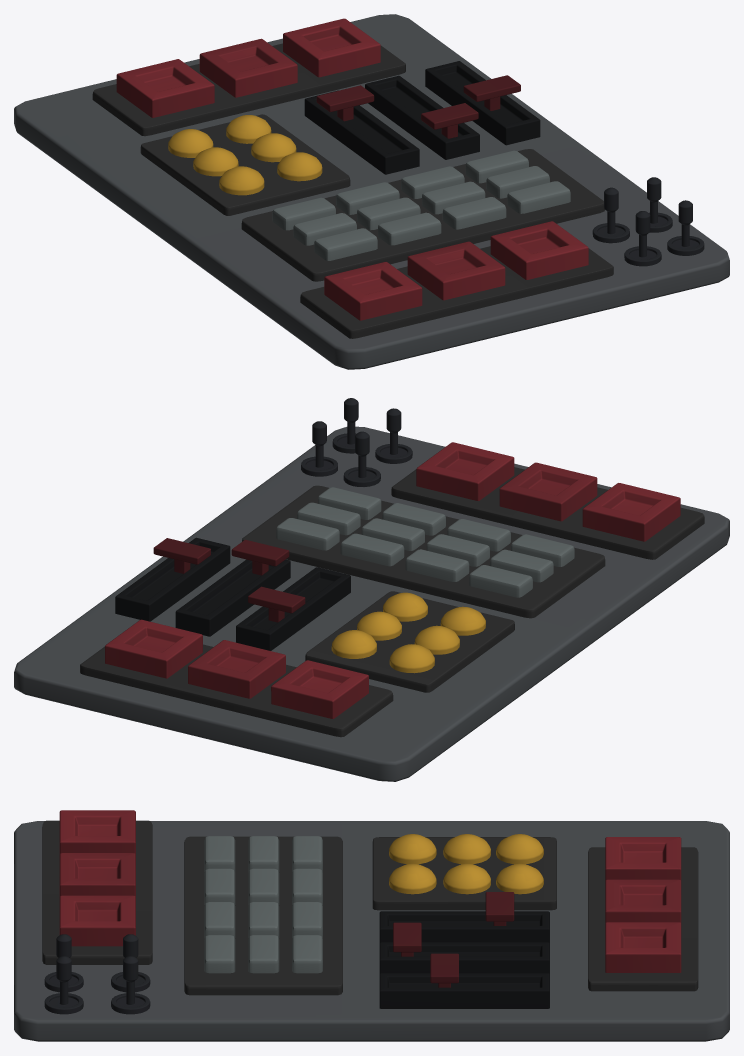
Rendered from Modulo_Riempimento_Singolo4.fbx.
3 renders of one model, top to bottom at view 1: azimuth 30°, elevation 25°; view 2: azimuth 150°, elevation 25°; view 3: azimuth 270°, elevation 25°, orthographic. The views are drawn at different scales.
Visible parts, largest first — view 1: polySurface212; view 2: polySurface212; view 3: polySurface212.
Boxes of the visible parts, left/top/right/bottom form: polySurface212: left=14, top=14, right=729, bottom=369; polySurface212: left=14, top=398, right=729, bottom=781; polySurface212: left=14, top=810, right=729, bottom=1041.
Bounding box in the file's own units: 20 × 3.28 × 30.
